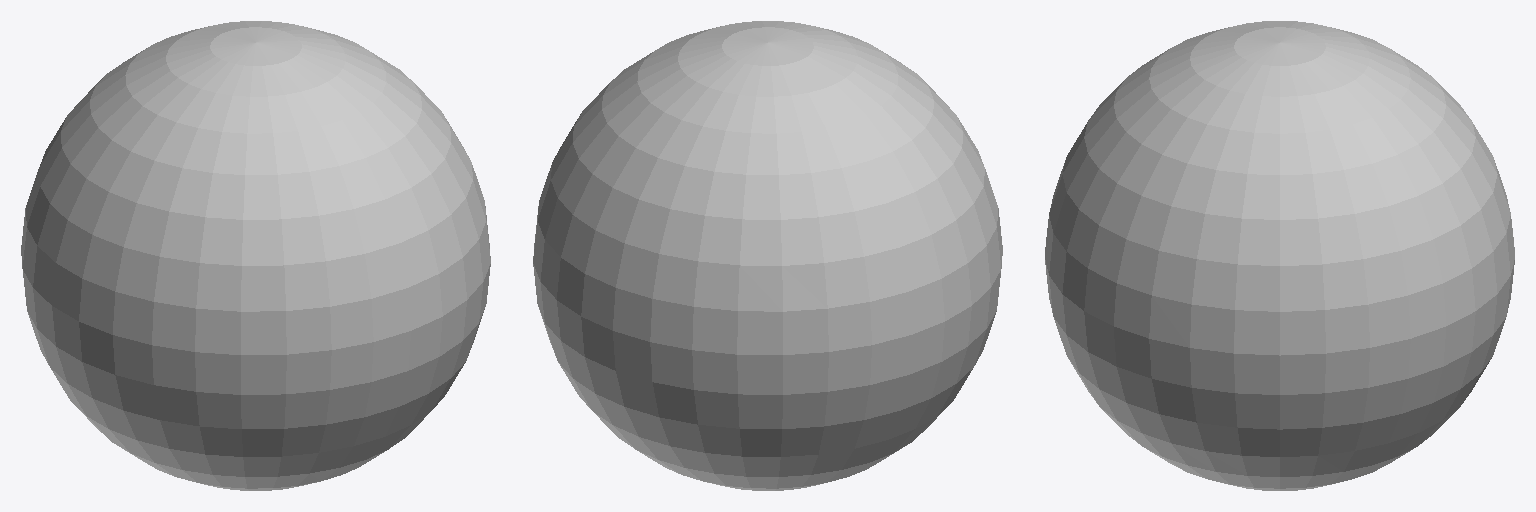
The model's file is mixture_on-spoon.obj.
3 renders of one model, left to right at view 1: azimuth 30°, elevation 25°; view 2: azimuth 150°, elevation 25°; view 3: azimuth 270°, elevation 25°, orthographic.
Visible parts, largest first — view 1: mixture_on_spoon; view 2: mixture_on_spoon; view 3: mixture_on_spoon.
Boxes of the visible parts, x1,y1,x2,y2 form: mixture_on_spoon: [21, 21, 490, 490]; mixture_on_spoon: [533, 21, 1002, 490]; mixture_on_spoon: [1045, 21, 1514, 490].
Bounding box in the file's own units: 5.04 × 5.04 × 5.04.